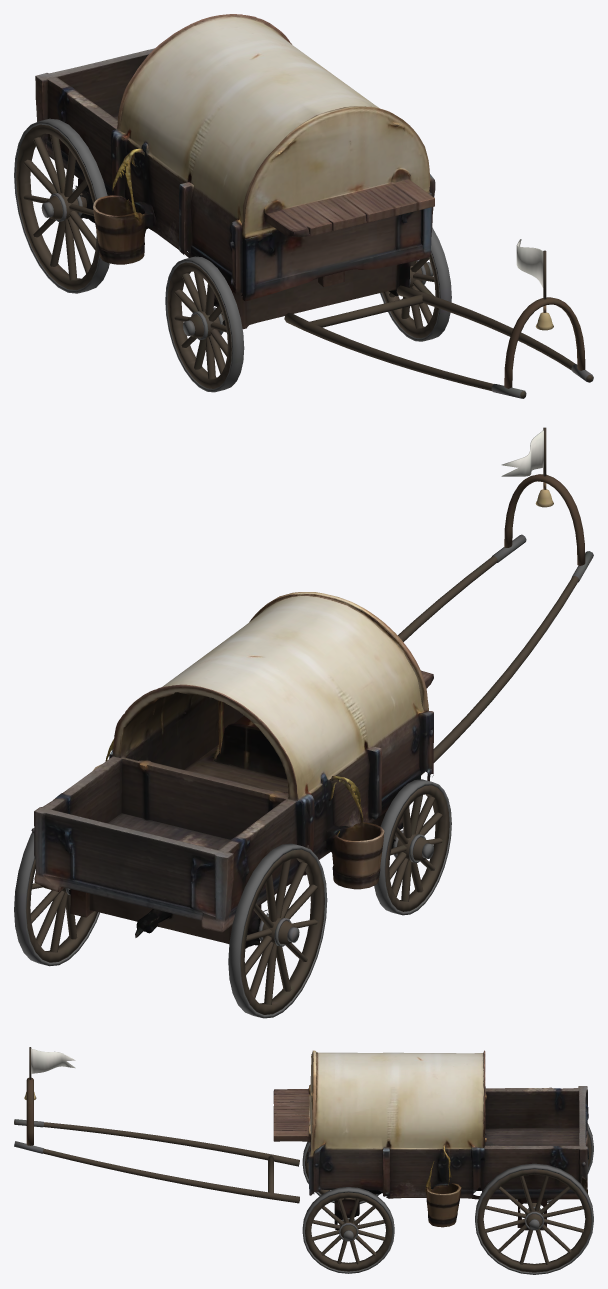
Rendered from prop-wagon-convoy.glb.
The picture shows the model from 3 angles, top to bottom: view 1: azimuth 30°, elevation 25°; view 2: azimuth 150°, elevation 25°; view 3: azimuth 270°, elevation 25°; orthographic projection. The views are drawn at different scales.
Visible parts, largest first — view 1: wagon-body, wagon-wheels-front, wagon-wheels-rear, wagon-harness; view 2: wagon-body, wagon-wheels-rear, wagon-wheels-front, wagon-harness; view 3: wagon-body, wagon-wheels-rear, wagon-harness, wagon-wheels-front.
Boxes of the visible parts, x1,y1,x2,y2 form: wagon-body: (35, 14, 435, 329); wagon-wheels-front: (165, 227, 451, 392); wagon-wheels-rear: (14, 118, 109, 293); wagon-harness: (284, 239, 593, 398); wagon-body: (31, 592, 433, 948); wagon-wheels-rear: (14, 832, 327, 1018); wagon-wheels-front: (374, 779, 451, 915); wagon-harness: (398, 427, 593, 775); wagon-body: (273, 1050, 588, 1230); wagon-wheels-rear: (475, 1123, 593, 1274); wagon-harness: (14, 1047, 299, 1203); wagon-wheels-front: (302, 1141, 394, 1273).
Bounding box in the file's own units: 2.14 × 2.03 × 5.6.
2 materials, 2 textured.
